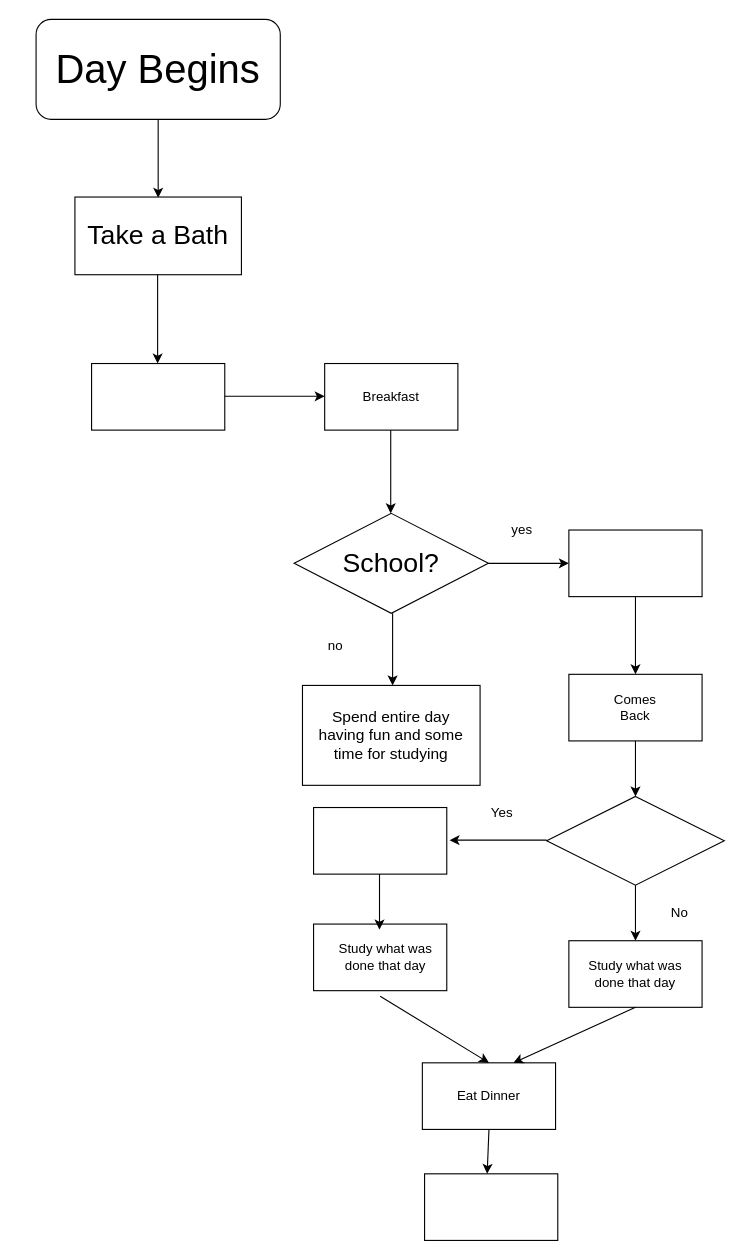
Some shapes in this 744 by 1260 pixel diagram are drawn without their labels. The shapes that lost their labels are listed below. From the top down, each one's centre as x and y in pixels, then its label:
(157,396): Pray
(635,563): Reaches school
(379,840): Do Homework
(635,840): Homework?
(490,1206): Sleep
